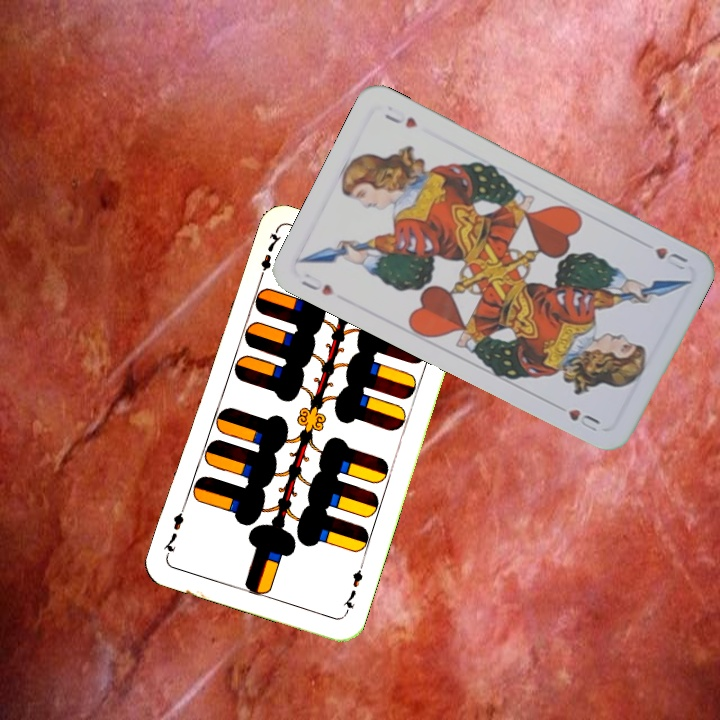E7: (254, 227, 284, 285), (338, 560, 367, 618)
HU: (297, 269, 337, 299), (651, 243, 690, 273)
